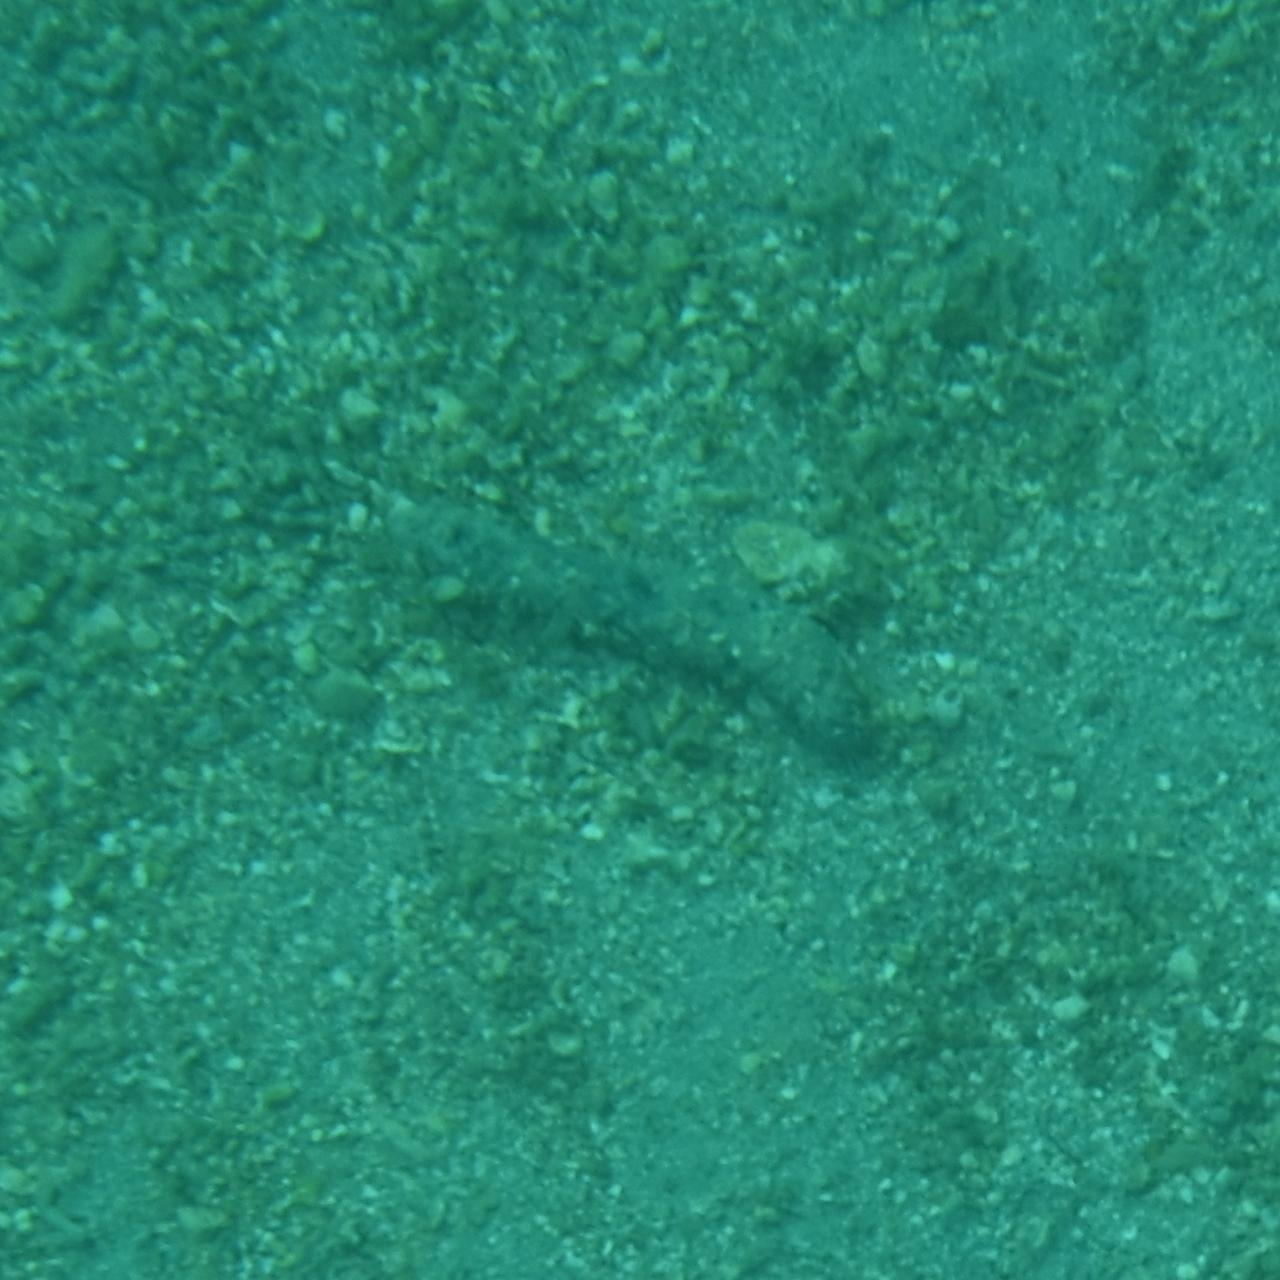Holothuria tubulosa: (394, 513, 886, 767)
